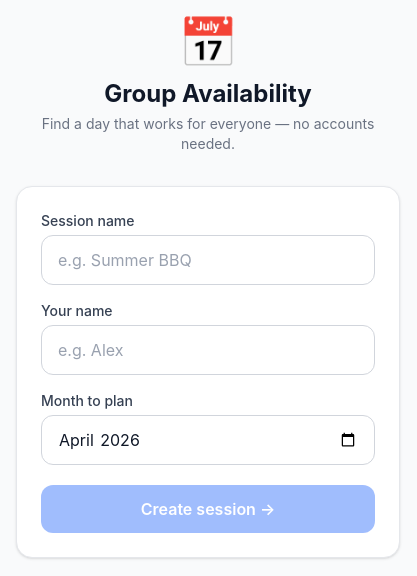
Home › submit button is enabled when all fields are filled
The image size is (417, 576).
Type "BBQ" into the field with placeholder "e.g. Summer BBQ" at point(208, 260), box [41,235,375,285]
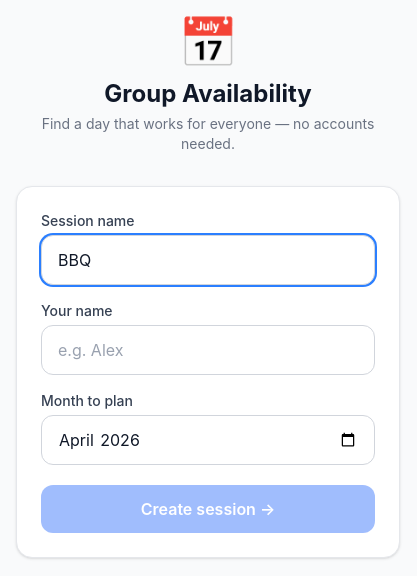
Type "Alice" into the field with placeholder "e.g. Alex" at point(208, 350), box [41,325,375,375]
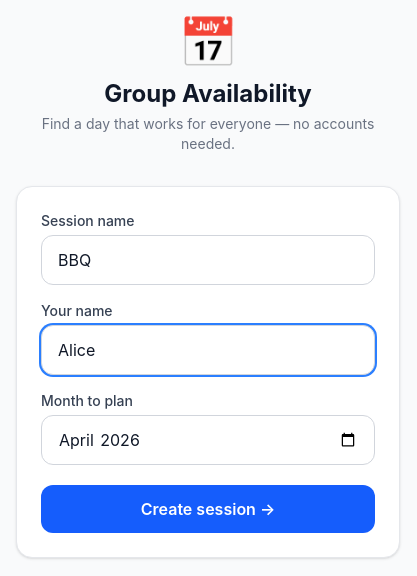
Result: the button "Create session →" is enabled at [41,485,375,533]
